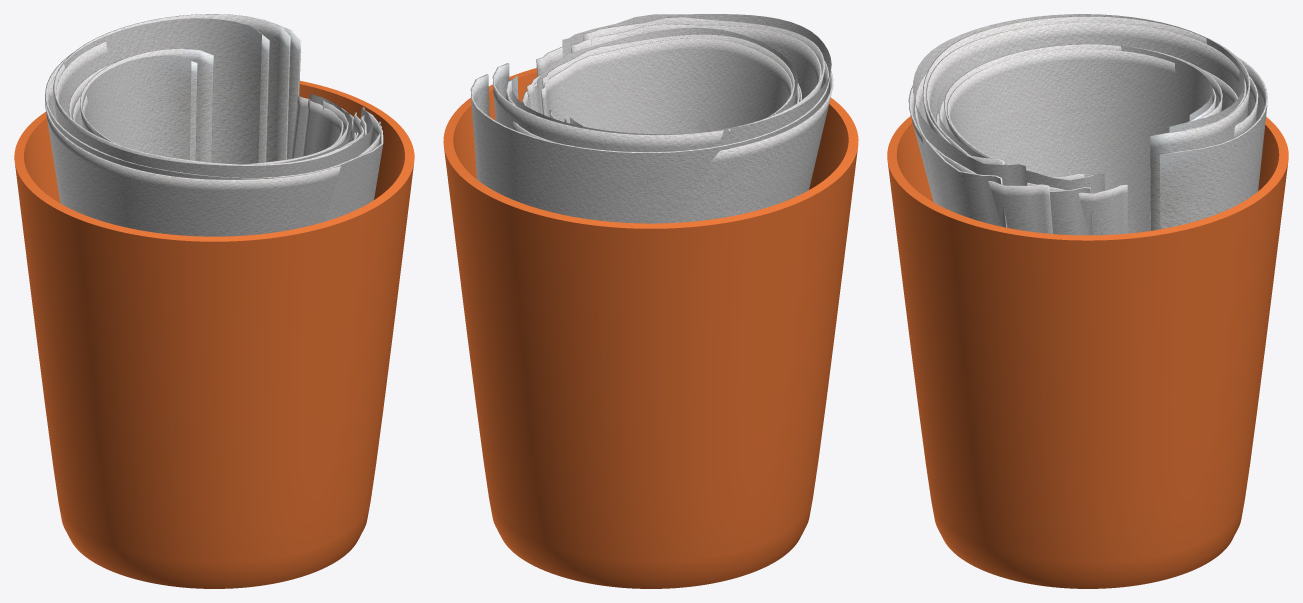
The model's file is TissueCup.fbx.
3 renders of one model, left to right at view 1: azimuth 30°, elevation 25°; view 2: azimuth 150°, elevation 25°; view 3: azimuth 270°, elevation 25°, orthographic. The views are drawn at different scales.
Parts seen in each view (by area): view 1: Cylinder, Plane; view 2: Cylinder, Plane; view 3: Cylinder, Plane.
Boxes of the visible parts, <box> form: Cylinder: <box>14,81,414,588</box>; Plane: <box>45,14,383,236</box>; Cylinder: <box>443,68,858,588</box>; Plane: <box>470,14,833,223</box>; Cylinder: <box>887,116,1288,588</box>; Plane: <box>908,14,1267,235</box>.
Size of the model in its own units: 209 by 256 by 209.
